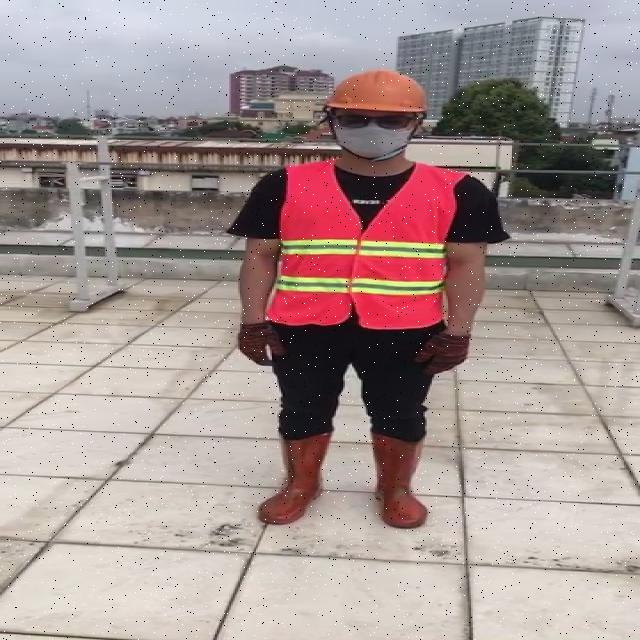Hard_hat: (315, 65, 431, 125)
Vest: (271, 158, 452, 329)
